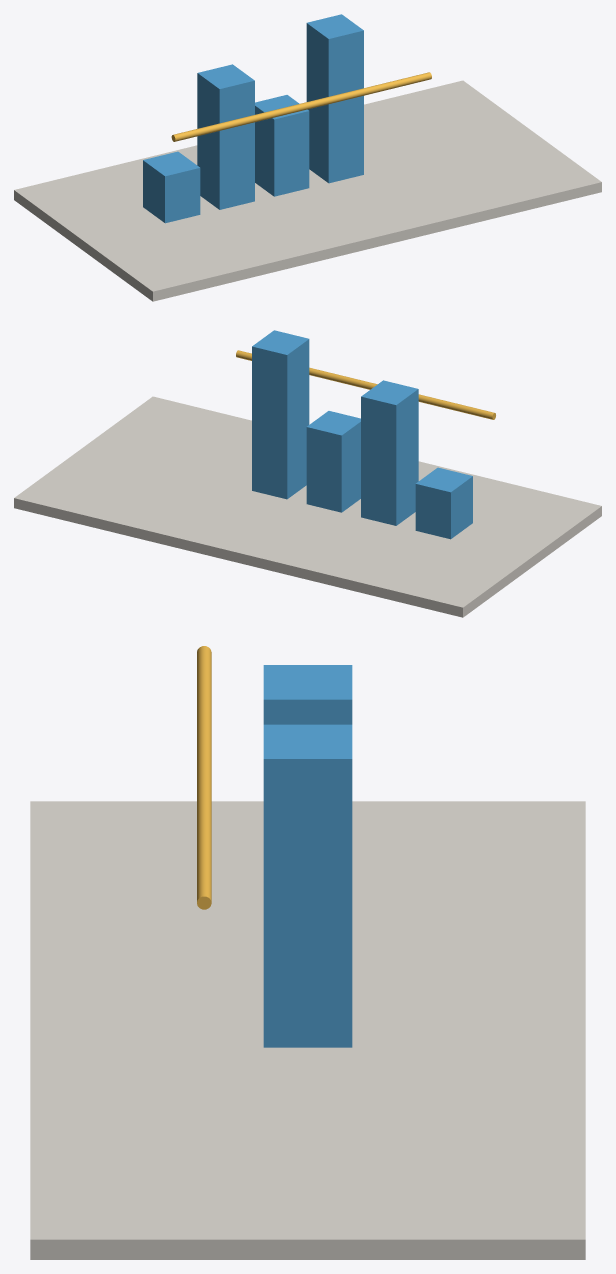
Rendered from math-data-mean.glb.
3 renders of one model, top to bottom at view 1: azimuth 30°, elevation 25°; view 2: azimuth 150°, elevation 25°; view 3: azimuth 270°, elevation 25°, orthographic. The views are drawn at different scales.
Parts seen in each view (by area): view 1: manipulative-base, bar-4, bar-2, bar-3, bar-1, mean-level-line; view 2: manipulative-base, bar-4, bar-2, bar-3, bar-1, mean-level-line; view 3: manipulative-base, bar-4, bar-2, mean-level-line.
Boxes of the visible parts, x1=… form: manipulative-base: x1=14, y1=80, x2=601, y2=301; bar-4: x1=306, y1=14, x2=363, y2=183; bar-2: x1=197, y1=64, x2=254, y2=209; bar-3: x1=255, y1=95, x2=309, y2=196; bar-1: x1=143, y1=151, x2=200, y2=223; mean-level-line: x1=171, y1=72, x2=431, y2=141; manipulative-base: x1=14, y1=396, x2=601, y2=617; bar-4: x1=252, y1=330, x2=309, y2=499; bar-2: x1=361, y1=380, x2=418, y2=525; bar-3: x1=306, y1=411, x2=360, y2=512; bar-1: x1=415, y1=467, x2=472, y2=539; mean-level-line: x1=236, y1=350, x2=495, y2=419; manipulative-base: x1=30, y1=801, x2=585, y2=1259; bar-4: x1=263, y1=724, x2=352, y2=1047; bar-2: x1=263, y1=665, x2=352, y2=724; mean-level-line: x1=197, y1=646, x2=211, y2=909.
Size of what is drawn, in the model's own units: 2.8 by 0.97 by 1.5.
